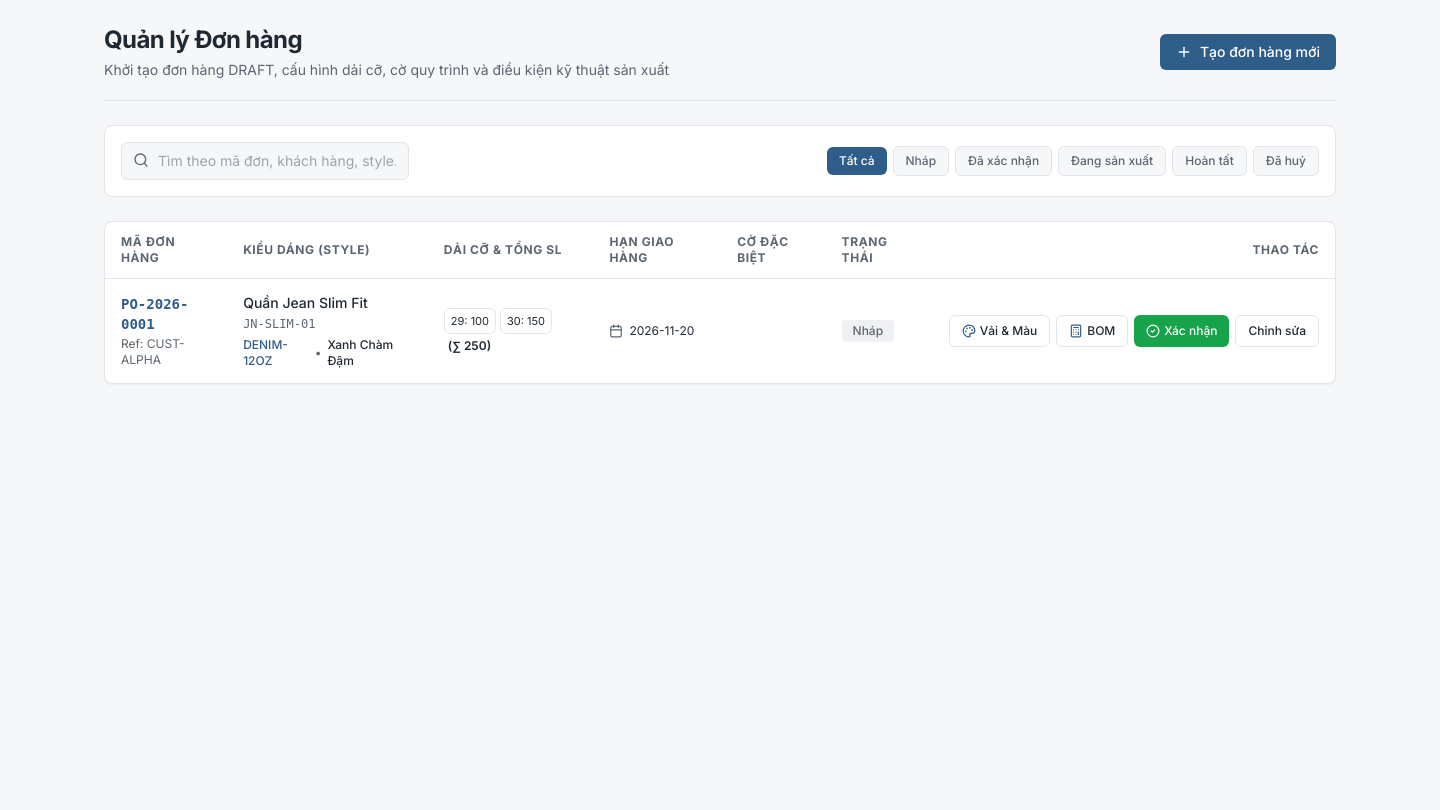
Test: OrdersPage › Confirm Order & Snapshot (T3.5, FR-07, FR-11, BR-03, BR-18, BR-19) › T3.5: opens Confirm Order modal and successfully confirms order
Click the button "Xác nhận" at (1182, 331), box [1134,315,1229,347]
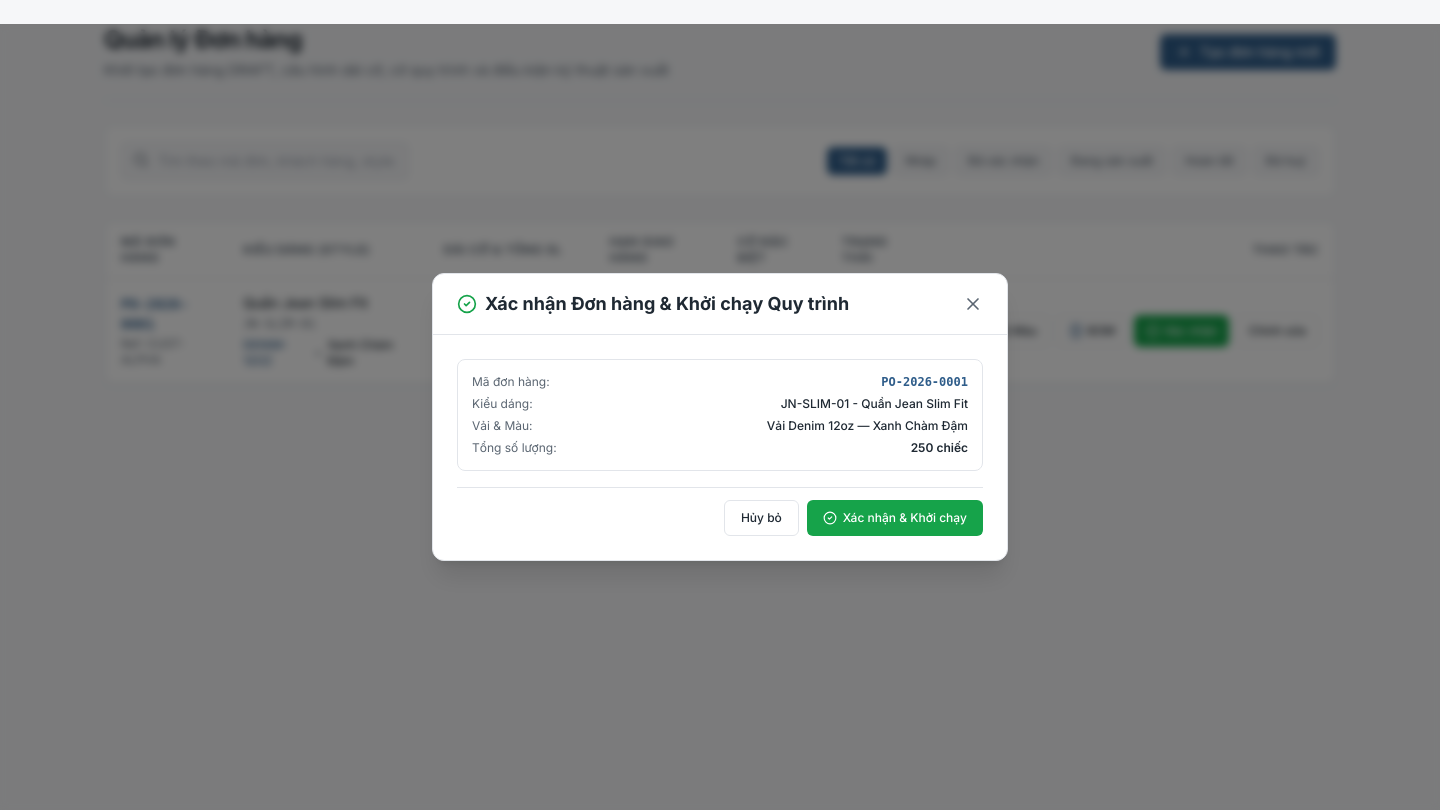
Expected: the heading "Xác nhận Đơn hàng & Khởi chạy Quy trình" is shown, [485,290,849,318]
Click the button "Xác nhận & Khởi chạy" at (895, 518), box [807,500,983,536]
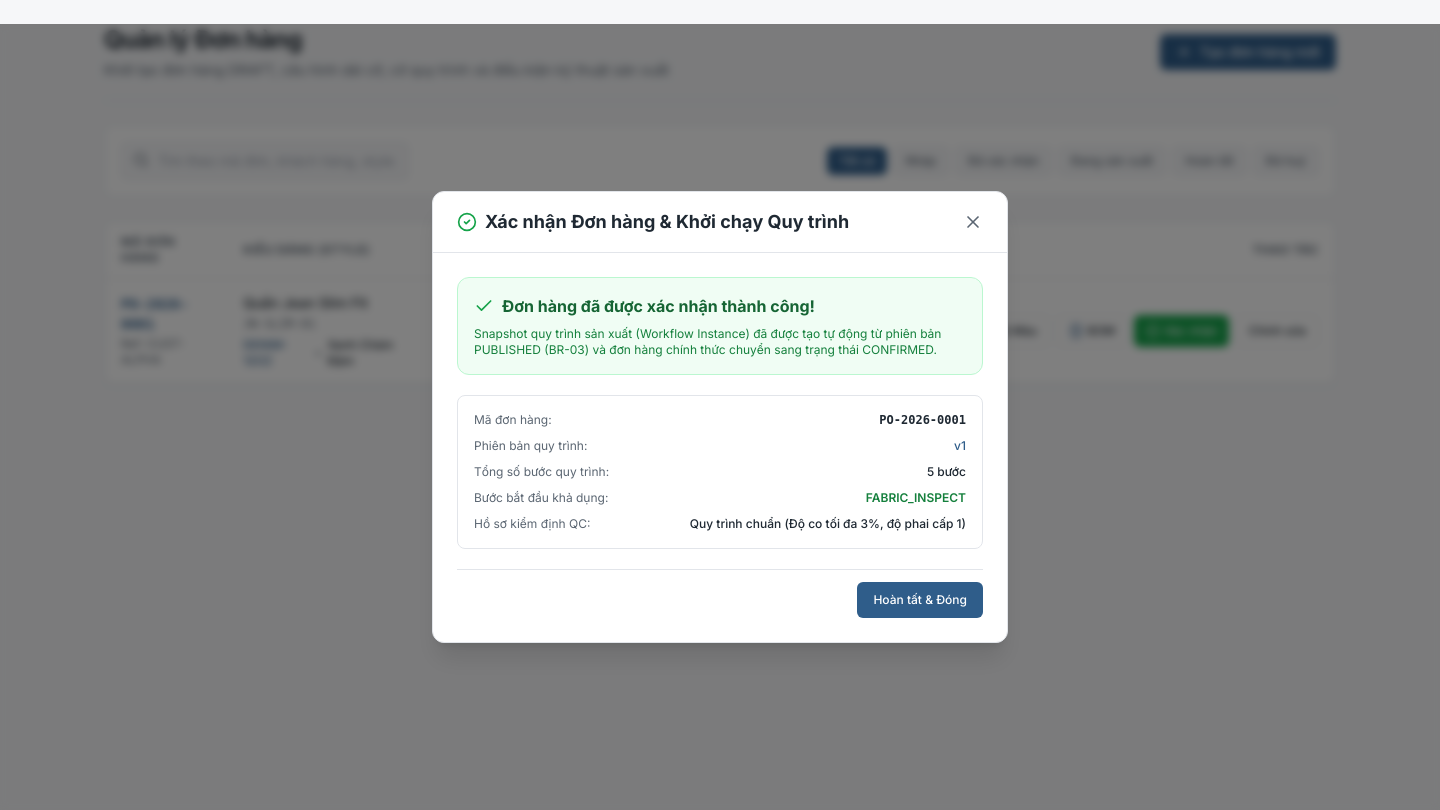
Expected: the text "Đơn hàng đã được xác nhận thành công!" is shown, [502,294,815,318]
Expected: the text "v1" is shown, [954,438,966,454]
Expected: the text "5 bước" is shown, [927,464,966,480]
